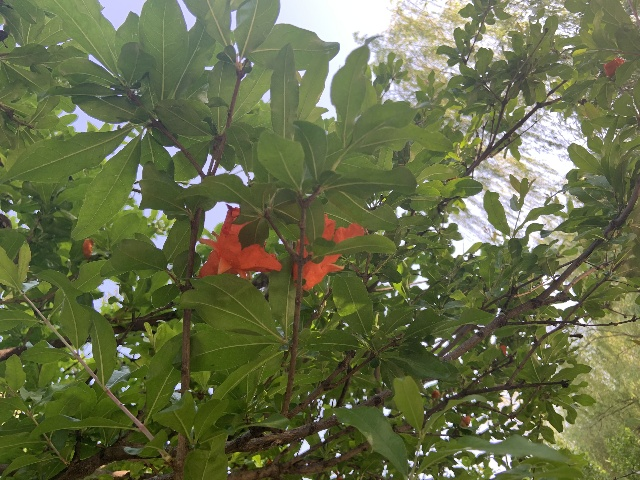bud: (82, 238, 93, 258), (459, 415, 470, 426)
flower: (194, 205, 281, 281), (293, 212, 364, 290), (603, 56, 625, 77)
